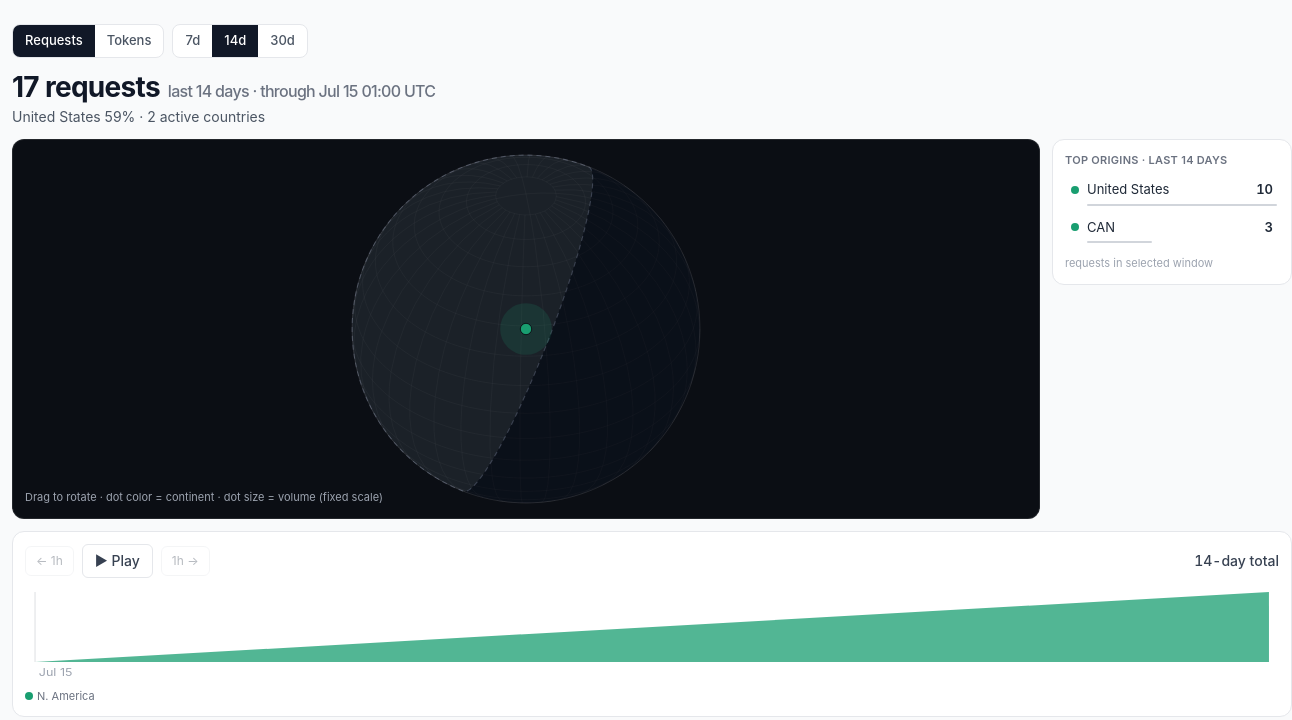
Scenario: GeoGlobe › pluralizes active countries and switches the hero with the metric
This screenshot has width=1292, height=720.
Expected: the text "17 requests" is shown, [12,70,160,104]
Expected: the text "United States 59% · 2 active countries" is shown, [12,108,265,124]
Click the button "Tokens".
click(129, 41)  # box [95,25,164,56]
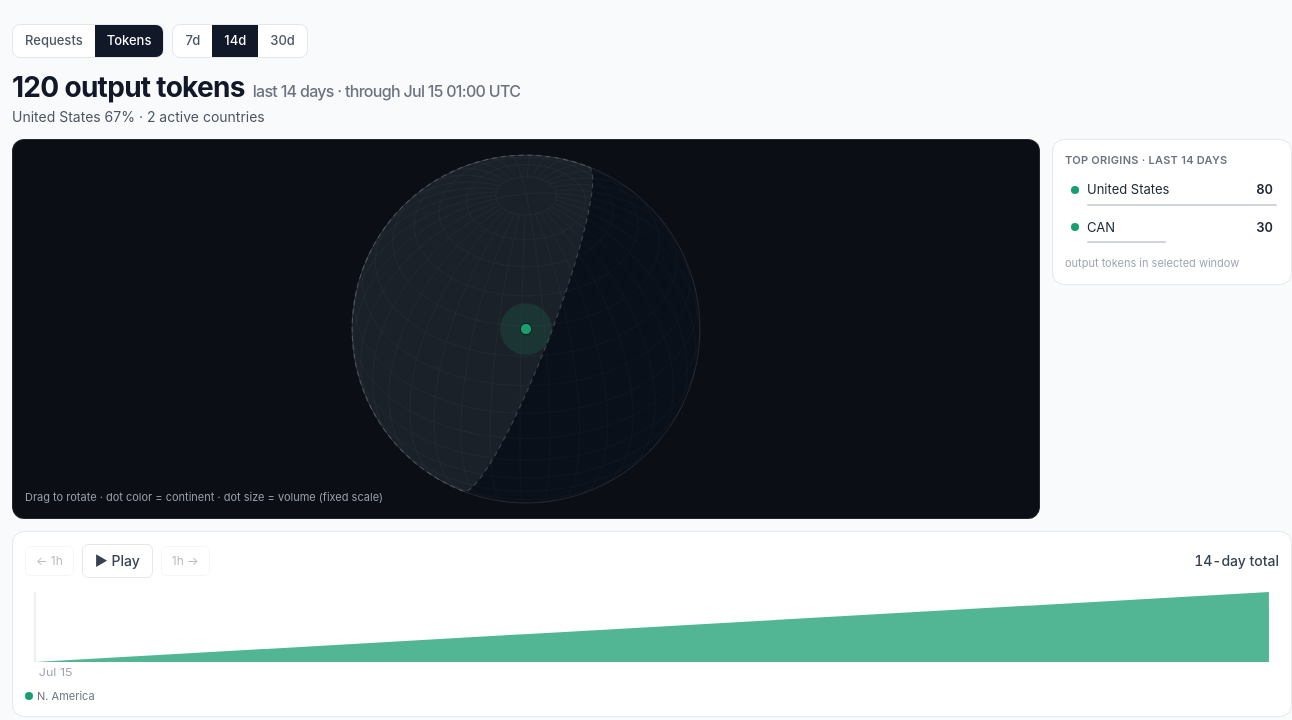
Now the text "120 output tokens" is shown, box [12,70,245,104]
Now the text "United States 67% · 2 active countries" is shown, box [12,108,265,124]
